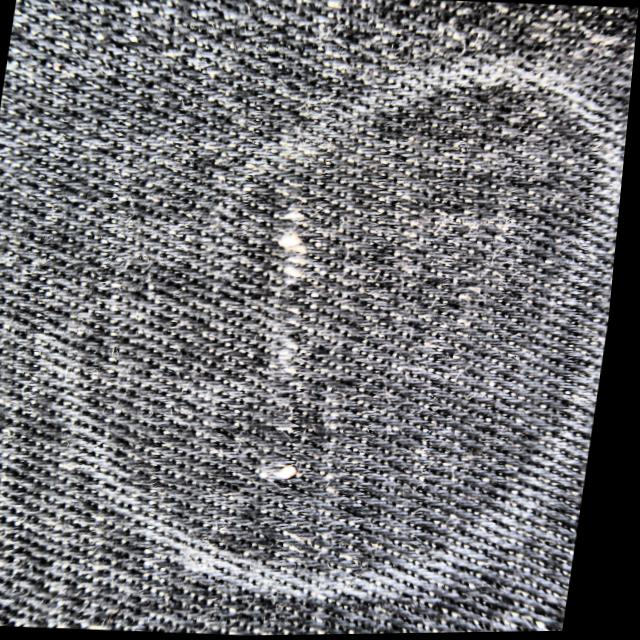Hole: (247, 315, 340, 426), (258, 210, 338, 304), (236, 443, 343, 501)
